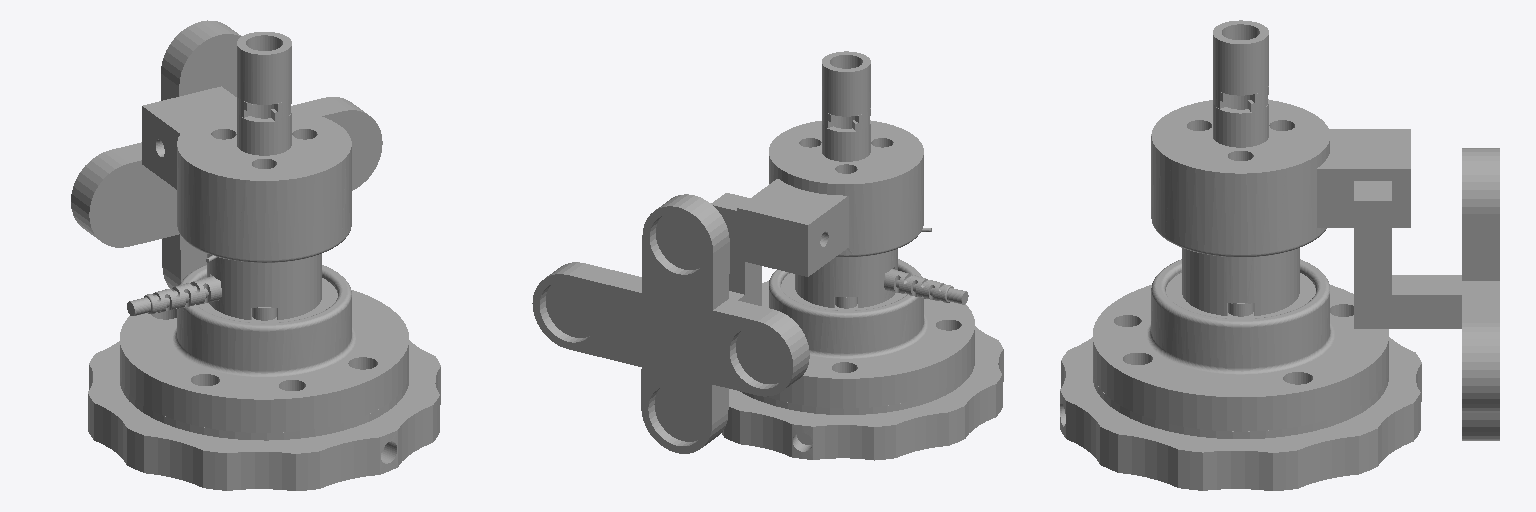
robot.urdf — LWR_US:
<?xml version="1.0" encoding="utf-8"?>
<!-- =================================================================================== -->
<!-- |    This document was autogenerated by xacro from use_case_setup_lwr.urdf.xacro  | -->
<!-- |    EDITING THIS FILE BY HAND IS NOT RECOMMENDED                                 | -->
<!-- =================================================================================== -->
<robot name="LWR_US" xmlns:controller="http://playerstage.sourceforge.net/gazebo/xmlschema/#controller" xmlns:interface="http://playerstage.sourceforge.net/gazebo/xmlschema/#interface" xmlns:sensor="http://playerstage.sourceforge.net/gazebo/xmlschema/#sensor">
  <material name="DarkGrey">
    <color rgba="0.3 0.3 0.3 1.0"/>
  </material>
  <material name="Black">
    <color rgba="0 0 0 1.0"/>
  </material>
  <material name="Orange">
    <color rgba="1.0 0.487 0 1.0"/>
  </material>
  <material name="Silver">
    <color rgba="1.0 1.0 1.0 1.0"/>
  </material>
  <material name="Grey">
    <color rgba="0.7 0.7 0.7 1.0"/>
  </material>
  <material name="Blue">
    <color rgba="0.0 0.0 0.8 1.0"/>
  </material>
  <material name="HandGray">
    <color rgba="0.953 0.996 0.694 1.0"/>
  </material>
  <material name="SickBlue">
    <color rgba="0.3058 0.5921 0.7294 1.0"/>
  </material>
  <material name="Wheat">
    <color rgba="0.8039 0.5215 0.2470 1.0"/>
  </material>
  <link name="world"/>
  <joint name="world_lwr_arm_base_joint" type="fixed">
    <origin rpy="0 0 0" xyz="0 0 0"/>
    <parent link="world"/>
    <child link="calib_lwr_arm_base_link"/>
  </joint>
  <link name="calib_lwr_arm_base_link">
    <inertial>
      <mass value="2.0"/>
      <origin rpy="0 0 0" xyz="0 0 0.055"/>
      <inertia ixx="0.00381666666667" ixy="0" ixz="0" iyy="0.0036" iyz="0" izz="0.00381666666667"/>
    </inertial>
    <visual>
      <origin rpy="0 0 0" xyz="0 0 0"/>
      <geometry>
        <mesh filename="package://kuka_lwr_description/meshes/arm/arm_base.stl"/>
      </geometry>
      <material name="Orange"/>
    </visual>
    <collision>
      <origin rpy="0 0 0" xyz="0 0 0"/>
      <geometry>
        <mesh filename="package://kuka_lwr_description/meshes/arm/convex/arm_base_convex.stl"/>
      </geometry>
    </collision>
  </link>
  <gazebo reference="calib_lwr_arm_base_link">
    <material value="kuka-lwr.material"/>
  </gazebo>
  <joint name="lwr_arm_joint_0" type="revolute">
    <origin rpy="0 0 0" xyz="0 0 0.11"/>
    <axis xyz="0 0 1"/>
    <limit effort="204" lower="-2.96705972839" upper="2.96705972839" velocity="1.91986217719"/>
    <safety_controller k_position="100" k_velocity="2" soft_lower_limit="-2.93215314335" soft_upper_limit="2.93215314335"/>
    <dynamics damping="0.1"/>
    <parent link="calib_lwr_arm_base_link"/>
    <child link="lwr_arm_link_1"/>
  </joint>
  <link name="lwr_arm_link_1">
    <inertial>
      <mass value="2.0"/>
      <origin rpy="0 0 0" xyz="0 0 0.130"/>
      <inertia ixx="0.0136666666667" ixy="0" ixz="0" iyy="0.003" iyz="0" izz="0.0118666666667"/>
    </inertial>
    <visual>
      <origin rpy="0 0 3.14159265359" xyz="0 0 0"/>
      <geometry>
        <mesh filename="package://kuka_lwr_description/meshes/arm/arm_segment_a.stl"/>
      </geometry>
      <material name="Orange"/>
    </visual>
    <collision>
      <origin rpy="0 0 3.14159265359" xyz="0 0 0"/>
      <geometry>
        <mesh filename="package://kuka_lwr_description/meshes/arm/convex/arm_segment_a_convex.stl"/>
      </geometry>
    </collision>
  </link>
  <gazebo reference="lwr_arm_link_1">
    <material value="kuka-lwr.material"/>
  </gazebo>
  <transmission name="lwr_arm_trans_0" type="pr2_mechanism_model/SimpleTransmission">
    <actuator name="lwr_arm_motor_0"/>
    <joint name="lwr_arm_joint_0"/>
    <mechanicalReduction>1.0</mechanicalReduction>
  </transmission>
  <joint name="lwr_arm_joint_1" type="revolute">
    <origin rpy="0 0 0" xyz="0 0 0.20"/>
    <axis xyz="0 -1 0"/>
    <limit effort="306" lower="-2.09439510239" upper="2.09439510239" velocity="1.91986217719"/>
    <safety_controller k_position="100" k_velocity="2" soft_lower_limit="-2.05948851735" soft_upper_limit="2.05948851735"/>
    <dynamics damping="0.1"/>
    <parent link="lwr_arm_link_1"/>
    <child link="lwr_arm_link_2"/>
  </joint>
  <link name="lwr_arm_link_2">
    <inertial>
      <mass value="2.0"/>
      <origin rpy="0 0 0" xyz="0 0.06 0.07"/>
      <inertia ixx="0.0136666666667" ixy="0" ixz="0" iyy="0.003" iyz="0" izz="0.0118666666667"/>
    </inertial>
    <visual>
      <origin rpy="3.14159265359 0 3.14159265359" xyz="0 0 0.2"/>
      <geometry>
        <mesh filename="package://kuka_lwr_description/meshes/arm/arm_segment_b.stl"/>
      </geometry>
      <material name="Orange"/>
    </visual>
    <collision>
      <origin rpy="3.14159265359 0 3.14159265359" xyz="0 0 0.2"/>
      <geometry>
        <mesh filename="package://kuka_lwr_description/meshes/arm/convex/arm_segment_b_convex.stl"/>
      </geometry>
    </collision>
  </link>
  <gazebo reference="lwr_arm_link_2">
    <material value="kuka-lwr.material"/>
  </gazebo>
  <transmission name="lwr_arm_trans_1" type="pr2_mechanism_model/SimpleTransmission">
    <actuator name="lwr_arm_motor_1"/>
    <joint name="lwr_arm_joint_1"/>
    <mechanicalReduction>1.0</mechanicalReduction>
  </transmission>
  <joint name="lwr_arm_joint_2" type="revolute">
    <origin rpy="0 0 0" xyz="0 0 0.20"/>
    <axis xyz="0 0 1"/>
    <limit effort="204" lower="-2.96705972839" upper="2.96705972839" velocity="2.26892802759"/>
    <safety_controller k_position="100" k_velocity="2" soft_lower_limit="-2.93215314335" soft_upper_limit="2.93215314335"/>
    <dynamics damping="0.1"/>
    <parent link="lwr_arm_link_2"/>
    <child link="lwr_arm_link_3"/>
  </joint>
  <link name="lwr_arm_link_3">
    <inertial>
      <mass value="2.0"/>
      <origin rpy="0 0 0" xyz="0 0.06 0.130"/>
      <inertia ixx="0.0136666666667" ixy="0" ixz="0" iyy="0.003" iyz="0" izz="0.0118666666667"/>
    </inertial>
    <visual>
      <origin rpy="0 0 0" xyz="0 0 0"/>
      <geometry>
        <mesh filename="package://kuka_lwr_description/meshes/arm/arm_segment_a.stl"/>
      </geometry>
      <material name="Orange"/>
    </visual>
    <collision>
      <origin rpy="0 0 0" xyz="0 0 0"/>
      <geometry>
        <mesh filename="package://kuka_lwr_description/meshes/arm/convex/arm_segment_a_convex.stl"/>
      </geometry>
    </collision>
  </link>
  <gazebo reference="lwr_arm_link_3">
    <material value="kuka-lwr.material"/>
  </gazebo>
  <transmission name="lwr_arm_trans_2" type="pr2_mechanism_model/SimpleTransmission">
    <actuator name="lwr_arm_motor_2"/>
    <joint name="lwr_arm_joint_2"/>
    <mechanicalReduction>1.0</mechanicalReduction>
  </transmission>
  <joint name="lwr_arm_joint_3" type="revolute">
    <origin rpy="0 0 0" xyz="0 0 0.20"/>
    <axis xyz="0 1 0"/>
    <limit effort="306" lower="-2.09439510239" upper="2.09439510239" velocity="2.26892802759"/>
    <safety_controller k_position="100" k_velocity="2" soft_lower_limit="-2.05948851735" soft_upper_limit="2.05948851735"/>
    <dynamics damping="0.1"/>
    <parent link="lwr_arm_link_3"/>
    <child link="lwr_arm_link_4"/>
  </joint>
  <link name="lwr_arm_link_4">
    <inertial>
      <mass value="2.0"/>
      <origin rpy="0 0 0" xyz="0 -0.06 0.07"/>
      <inertia ixx="0.0136666666667" ixy="0" ixz="0" iyy="0.003" iyz="0" izz="0.0118666666667"/>
    </inertial>
    <visual>
      <origin rpy="0 3.14159265359 3.14159265359" xyz="0 0 0.2"/>
      <geometry>
        <mesh filename="package://kuka_lwr_description/meshes/arm/arm_segment_b.stl"/>
      </geometry>
      <material name="Orange"/>
    </visual>
    <collision>
      <origin rpy="0 3.14159265359 3.14159265359" xyz="0 0 0.2"/>
      <geometry>
        <mesh filename="package://kuka_lwr_description/meshes/arm/convex/arm_segment_b_convex.stl"/>
      </geometry>
    </collision>
  </link>
  <gazebo reference="lwr_arm_link_4">
    <material value="kuka-lwr.material"/>
  </gazebo>
  <transmission name="lwr_arm_trans_3" type="pr2_mechanism_model/SimpleTransmission">
    <actuator name="lwr_arm_motor_3"/>
    <joint name="lwr_arm_joint_3"/>
    <mechanicalReduction>1.0</mechanicalReduction>
  </transmission>
  <joint name="lwr_arm_joint_4" type="revolute">
    <origin rpy="0 0 0" xyz="0 0 0.20"/>
    <axis xyz="0 0 1"/>
    <limit effort="204" lower="-2.96705972839" upper="2.96705972839" velocity="2.26892802759"/>
    <safety_controller k_position="100" k_velocity="2" soft_lower_limit="-2.93215314335" soft_upper_limit="2.93215314335"/>
    <dynamics damping="0.1"/>
    <parent link="lwr_arm_link_4"/>
    <child link="lwr_arm_link_5"/>
  </joint>
  <link name="lwr_arm_link_5">
    <inertial>
      <mass value="2.0"/>
      <origin rpy="0 0 0" xyz="0 0 0.124"/>
      <inertia ixx="0.0126506666667" ixy="0" ixz="0" iyy="0.003" iyz="0" izz="0.0108506666667"/>
    </inertial>
    <visual>
      <origin rpy="0 0 3.14159265359" xyz="0 0 0"/>
      <geometry name="lwr_arm_5_geom">
        <mesh filename="package://kuka_lwr_description/meshes/arm/arm_segment_last.stl"/>
      </geometry>
      <material name="Orange"/>
    </visual>
    <collision>
      <origin rpy="0 0 3.14159265359" xyz="0 0 0"/>
      <geometry>
        <mesh filename="package://kuka_lwr_description/meshes/arm/convex/arm_segment_last_convex.stl"/>
      </geometry>
    </collision>
  </link>
  <gazebo reference="lwr_arm_link_5">
    <material value="kuka-lwr.material"/>
  </gazebo>
  <transmission name="lwr_arm_trans_4" type="pr2_mechanism_model/SimpleTransmission">
    <actuator name="lwr_arm_motor_4"/>
    <joint name="lwr_arm_joint_4"/>
    <mechanicalReduction>1.0</mechanicalReduction>
  </transmission>
  <joint name="lwr_arm_joint_5" type="revolute">
    <origin rpy="0 0 0" xyz="0 0 0.19"/>
    <axis xyz="0 -1 0"/>
    <limit effort="306" lower="-2.09439510239" upper="2.09439510239" velocity="3.14159265359"/>
    <safety_controller k_position="100" k_velocity="2" soft_lower_limit="-2.05948851735" soft_upper_limit="2.05948851735"/>
    <dynamics damping="0.1"/>
    <parent link="lwr_arm_link_5"/>
    <child link="lwr_arm_link_6"/>
  </joint>
  <link name="lwr_arm_link_6">
    <inertial>
      <mass value="2.0"/>
      <origin rpy="0 0 0" xyz="0 0 0.0625"/>
      <inertia ixx="0.00520833333333" ixy="0" ixz="0" iyy="0.00520833333333" iyz="0" izz="0.00520833333333"/>
    </inertial>
    <visual>
      <origin rpy="0 0 3.14159265359" xyz="0 0 0"/>
      <geometry>
        <mesh filename="package://kuka_lwr_description/meshes/arm/arm_wrist.stl"/>
      </geometry>
      <material name="Grey"/>
    </visual>
    <collision>
      <origin rpy="0 0 3.14159265359" xyz="0 0 0"/>
      <geometry>
        <mesh filename="package://kuka_lwr_description/meshes/arm/convex/arm_wrist_convex.stl"/>
      </geometry>
    </collision>
  </link>
  <gazebo reference="lwr_arm_link_6">
    <material value="kuka-lwr.material"/>
  </gazebo>
  <transmission name="lwr_arm_trans_5" type="pr2_mechanism_model/SimpleTransmission">
    <actuator name="lwr_arm_motor_5"/>
    <joint name="lwr_arm_joint_5"/>
    <mechanicalReduction>1.0</mechanicalReduction>
  </transmission>
  <joint name="lwr_arm_joint_6" type="revolute">
    <origin rpy="0 0 0" xyz="0 0 0.078"/>
    <axis xyz="0 0 1"/>
    <limit effort="204" lower="-2.96705972839" upper="2.96705972839" velocity="3.14159265359"/>
    <safety_controller k_position="100" k_velocity="2" soft_lower_limit="-2.93215314335" soft_upper_limit="2.93215314335"/>
    <dynamics damping="0.1"/>
    <parent link="lwr_arm_link_6"/>
    <child link="lwr_arm_link_7"/>
  </joint>
  <link name="lwr_arm_link_7">
    <inertial>
      <mass value="2.0"/>
      <origin xyz="0 0 0"/>
      <inertia ixx="0.333333333333" ixy="0" ixz="0" iyy="0.333333333333" iyz="0" izz="0.333333333333"/>
    </inertial>
    <visual>
      <origin rpy="0 0 2.35619449019" xyz="0 0 0"/>
      <geometry>
        <mesh filename="package://kuka_lwr_description/meshes/arm/arm_flanche.stl"/>
      </geometry>
      <material name="Black"/>
    </visual>
    <collision>
      <origin rpy="0 0 2.35619449019" xyz="0 0 0"/>
      <geometry>
        <mesh filename="package://kuka_lwr_description/meshes/arm/convex/arm_flanche_convex.stl"/>
      </geometry>
    </collision>
  </link>
  <gazebo reference="lwr_arm_link_7">
    <material value="kuka-lwr.material"/>
  </gazebo>
  <transmission name="lwr_arm_trans_6" type="pr2_mechanism_model/SimpleTransmission">
    <actuator name="lwr_arm_motor_6"/>
    <joint name="lwr_arm_joint_6"/>
    <mechanicalReduction>1.0</mechanicalReduction>
  </transmission>
  <joint name="lwr_arm_hand_fixed_joint" type="fixed">
    <origin rpy="0 0 0" xyz="0 0 0.092"/>
    <parent link="lwr_arm_link_7"/>
    <child link="A_mode_link"/>
  </joint>
  <link name="A_mode_link">
    <inertial>
      <mass value="0.17"/>
      <origin rpy="0 0 1.57079632" xyz="0.0 0.0 0.0"/>
      <inertia ixx="0.333333333333" ixy="0" ixz="0" iyy="0.333333333333" iyz="0" izz="0.333333333333"/>
    </inertial>
    <visual>
      <origin rpy="-1.57079632 0 0" xyz="-0.052 -0.052 0.0"/>
        <geometry>
            <mesh filename="package://kuka_lwr_description/meshes/arm/convex/a_with_force_sensor.stl"/> 
        </geometry>
    <material name="Grey"/>
    </visual>
  </link>
  <gazebo reference= "lwr_arm_link_7">
    <material value="kuka-lwr.material"/>
  </gazebo>
  <transmission name="lwr_arm_link_7" type="pr2_mechanism_model/SimpleTransmission">
    <actuator name="lwr_arm_motor_6"/>
    <joint name="lwr_arm_hand_fixed_joint"/>
    <mechanicalReduction>1.0</mechanicalReduction>
  </transmission> 
</robot>

--- Facts derived from the render (not from the file) ---
Views: 3 orthographic renders of the robot side by side, from view 1: azimuth 30°, elevation 25°; view 2: azimuth 150°, elevation 25°; view 3: azimuth 270°, elevation 25°.
Robot: LWR_US — 10 links, 9 joints (7 revolute, 2 fixed); root link world; default pose: all joints at 0.
Visible links, largest first — view 1: A_mode_link; view 2: A_mode_link; view 3: A_mode_link.
Boxes of the visible links, x1=… form: A_mode_link: x1=71, y1=20, x2=440, y2=490; A_mode_link: x1=532, y1=51, x2=1003, y2=460; A_mode_link: x1=1060, y1=20, x2=1499, y2=490.
Bounding box of the posed robot: 0.0952 × 0.0934 × 0.0928 m (x, y, z).
Meshes: 7 distinct files referenced, 1 mesh visuals loaded (1 binary STL); not drawn: 8 (reference not matched to a file when rendering).